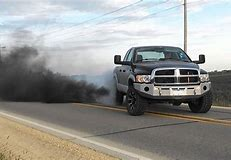smoke: (1, 45, 110, 103)
